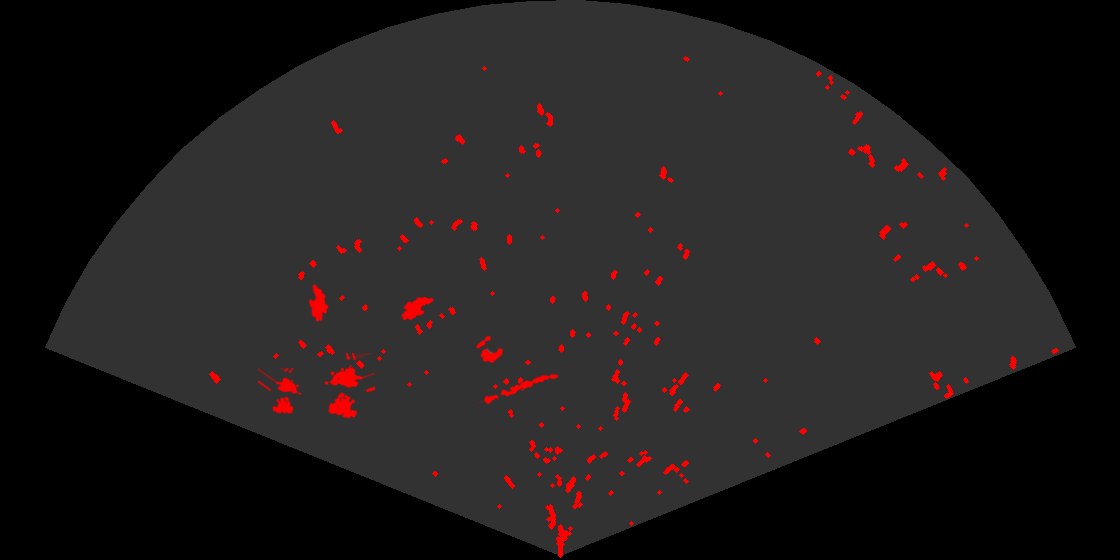AUV: (399, 295, 436, 322), (307, 282, 330, 324)
ball: (475, 334, 505, 365)
cage: (323, 353, 375, 420), (258, 368, 303, 416)
chain: (476, 372, 560, 406)
